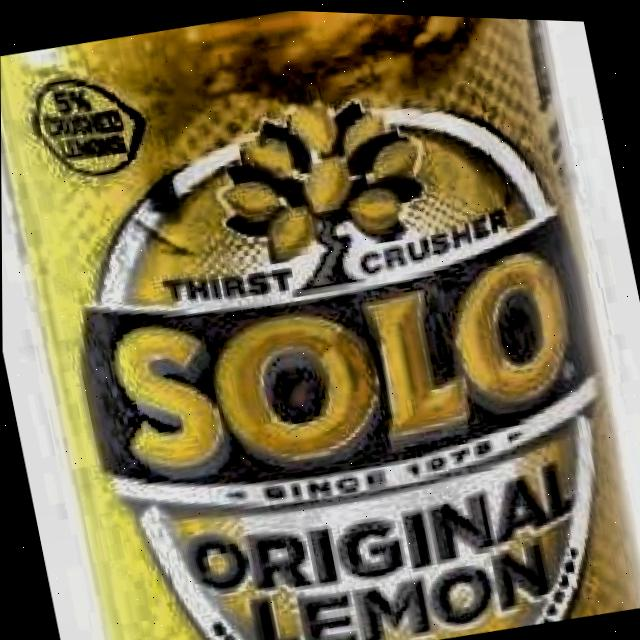metal: (0, 8, 640, 640)
